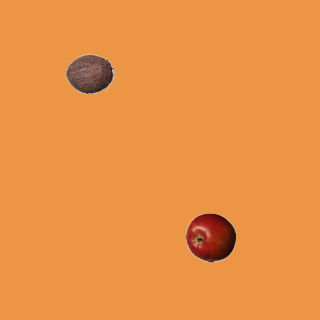Apple Braeburn: (185, 212, 235, 262)
Cocos: (64, 48, 114, 98)
